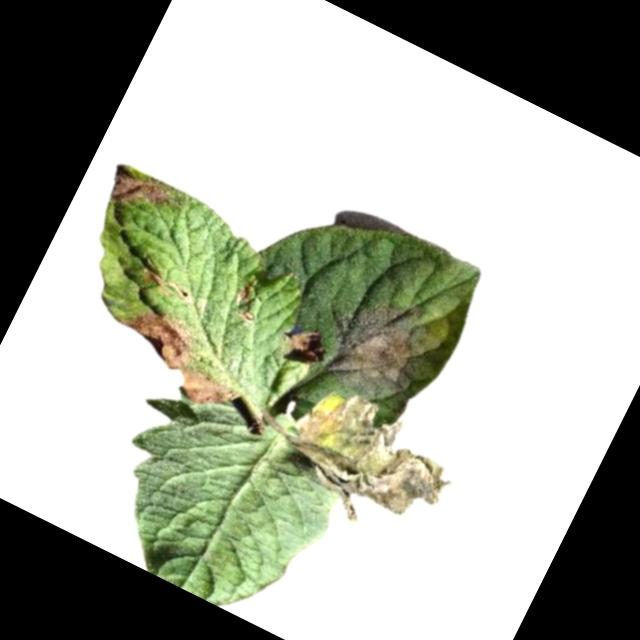Late_blight: (260, 373, 466, 556), (99, 294, 258, 420), (316, 277, 445, 413), (99, 159, 189, 235), (273, 318, 333, 377), (133, 261, 198, 310), (226, 276, 272, 329)
